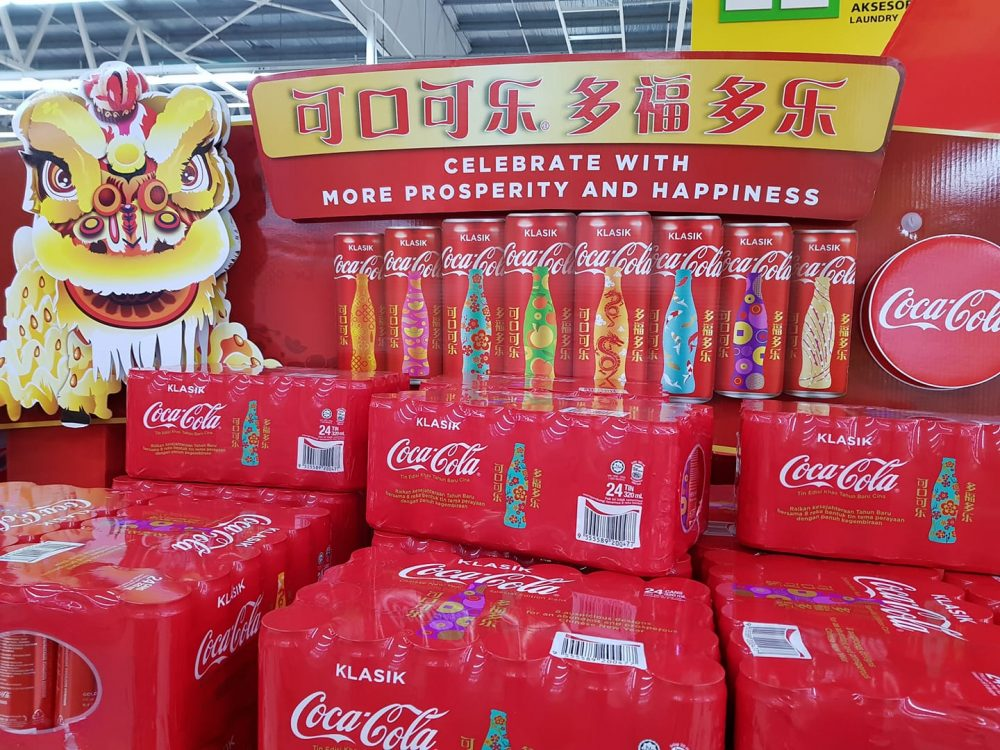cocacola_blue_fish: (655, 216, 717, 396)
cocacola_blue_flowers: (445, 217, 491, 396)
cocacola_green_apples: (507, 209, 568, 384)
cocacola_pink_feather: (387, 226, 437, 383)
cocacola_violet_balls: (727, 224, 788, 399)
cocacola_white_lines: (797, 229, 855, 401)
cocacola_yellow_dragons: (578, 211, 644, 396)
cocacola_yellow_pattern: (337, 234, 381, 371)
